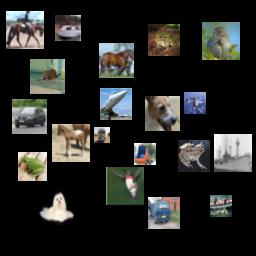airplane: (100, 88, 132, 120), (184, 92, 206, 114)
automobile: (12, 99, 47, 134)
bird: (106, 167, 144, 205), (202, 22, 240, 60)
cat: (30, 59, 65, 94)
dog: (145, 96, 180, 131), (39, 190, 74, 225)
frog: (178, 140, 210, 172), (148, 24, 180, 56), (18, 152, 47, 181)
ship: (214, 134, 252, 172), (55, 15, 81, 41), (210, 195, 232, 217)
truck: (148, 197, 180, 229), (134, 143, 156, 165), (94, 127, 110, 143)
